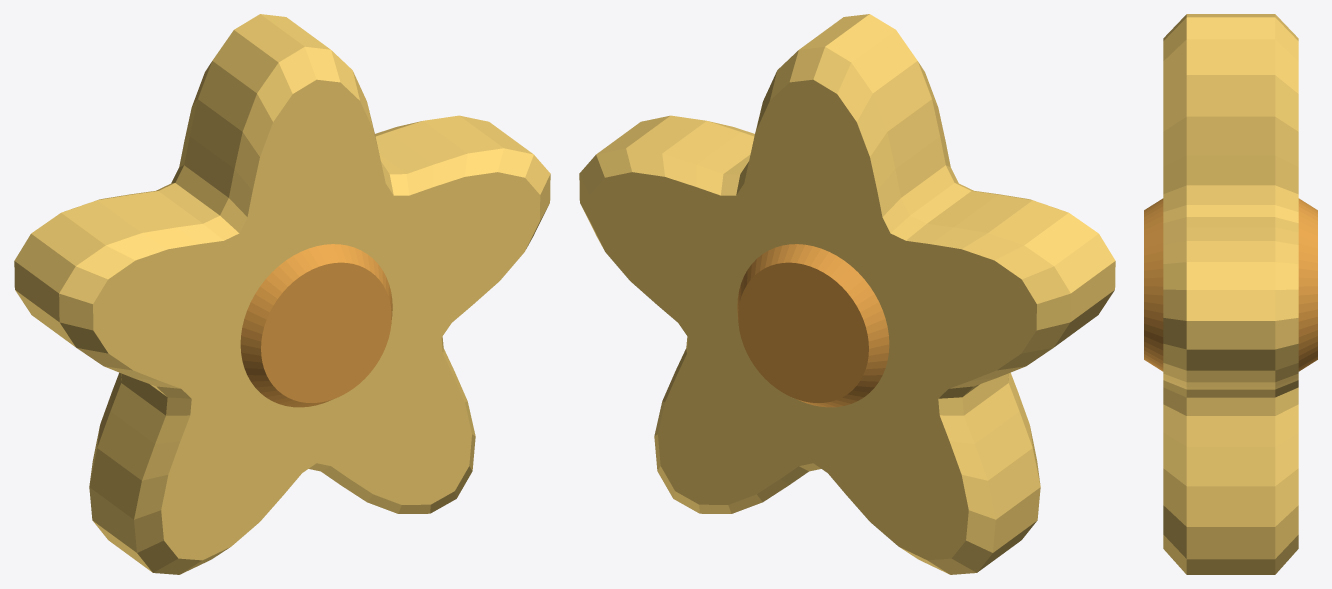
File: FlowerFragment.glb
3 views of the same model, side by side, from view 1: azimuth 30°, elevation 25°; view 2: azimuth 150°, elevation 25°; view 3: azimuth 270°, elevation 25° (orthographic).
Visible parts, largest first — view 1: Flower Fragment; view 2: Flower Fragment; view 3: Flower Fragment.
Boxes of the visible parts, x1,y1,x2,y2 form: Flower Fragment: (14, 14, 550, 574); Flower Fragment: (579, 14, 1115, 574); Flower Fragment: (1144, 14, 1317, 574).
Bounding box in the file's own units: 0.6981 × 0.6754 × 0.216.
